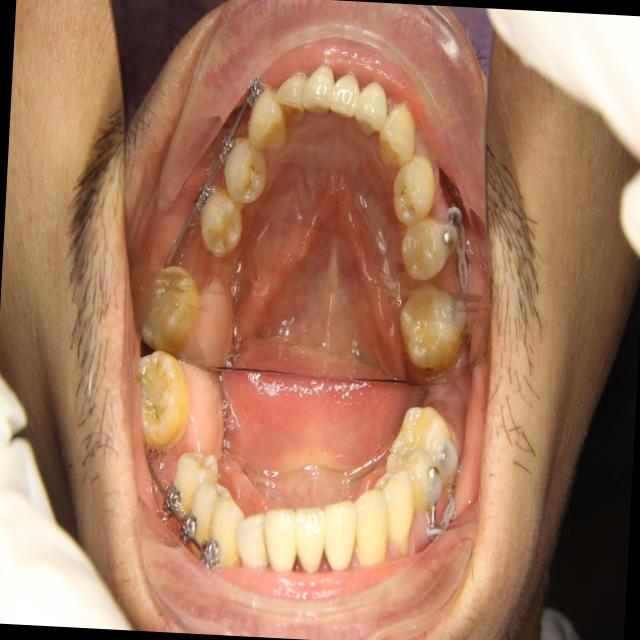tooth: (393, 274, 470, 379), (131, 257, 203, 362), (394, 212, 461, 288), (386, 148, 440, 230), (194, 184, 249, 264), (218, 134, 271, 206), (372, 99, 421, 171), (245, 87, 292, 158), (298, 54, 340, 126), (349, 77, 392, 142), (271, 68, 313, 130), (327, 69, 363, 125)
